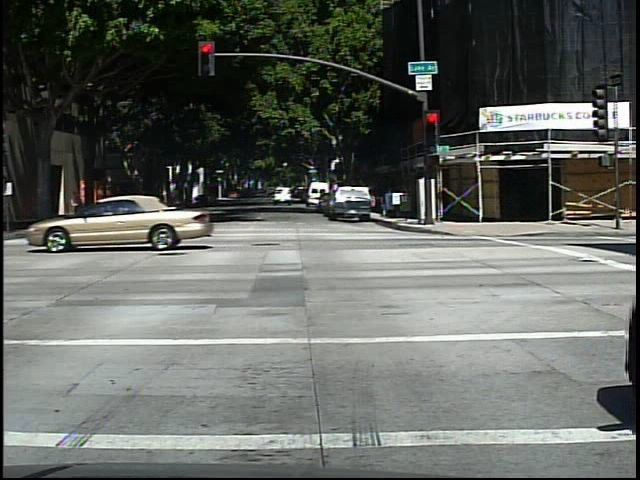person: (64, 185, 101, 238)
